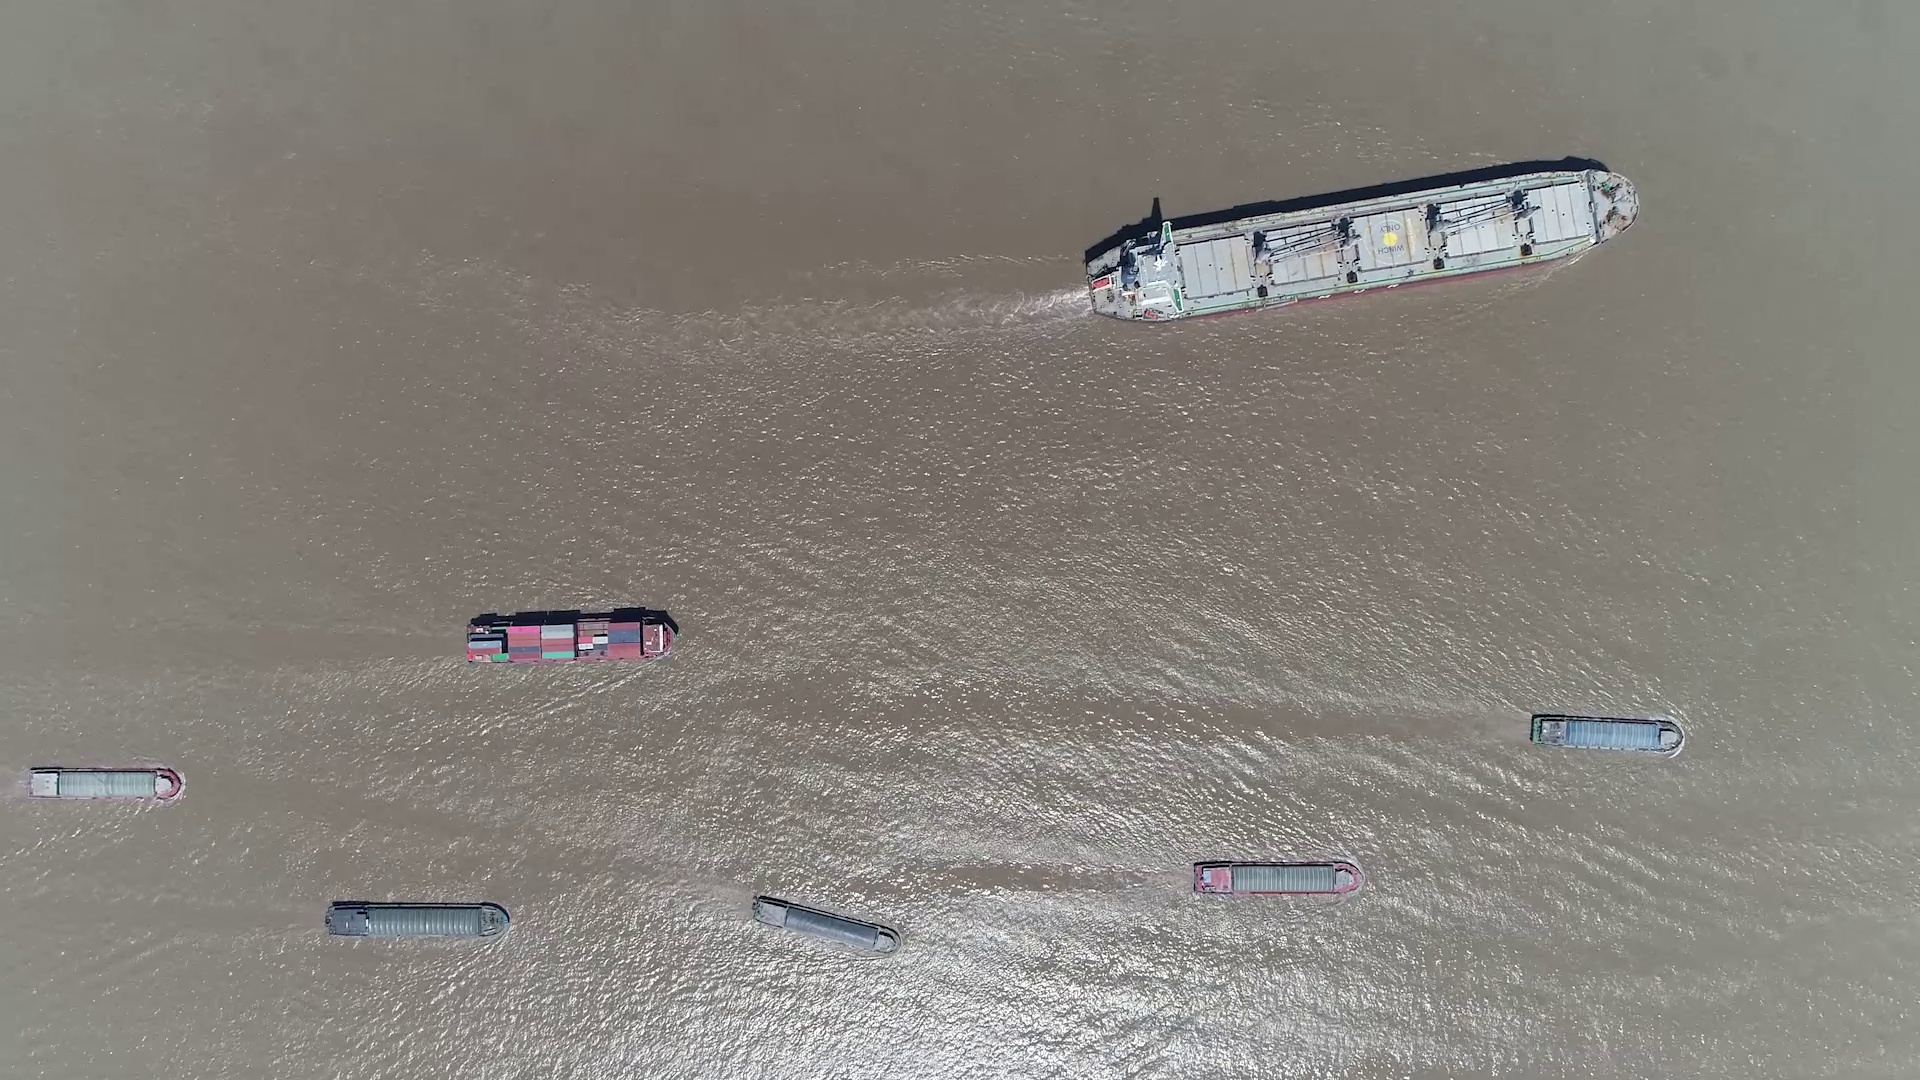ship: (1081, 170, 1642, 320), (467, 615, 676, 665), (750, 895, 897, 953), (324, 901, 508, 939), (1528, 713, 1685, 754), (1195, 860, 1360, 894), (24, 767, 179, 802)
